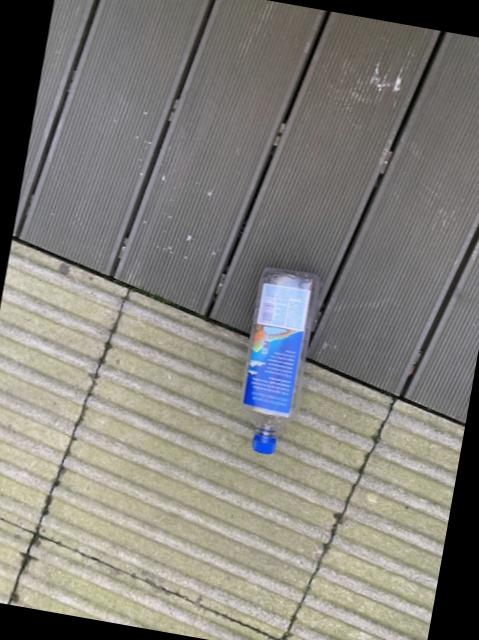plastic: (239, 266, 317, 451)
